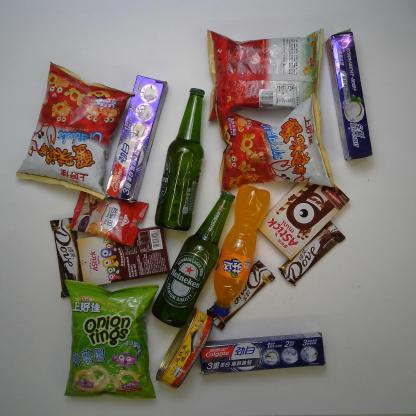Alcohol: (149, 187, 238, 335), (152, 85, 206, 233)
Canned Food: (154, 304, 215, 392)
Chocolate: (206, 258, 276, 332), (277, 217, 348, 287), (45, 215, 86, 300)
Dessert: (254, 174, 352, 263), (74, 221, 175, 289)
Drink: (210, 180, 273, 318)
Instant Drink: (65, 180, 150, 249)
Personal Hygiene: (104, 71, 170, 210), (320, 26, 378, 165), (197, 328, 328, 376)
Puffed Food: (12, 58, 139, 205), (214, 90, 338, 197), (58, 277, 162, 401), (204, 22, 326, 127)
